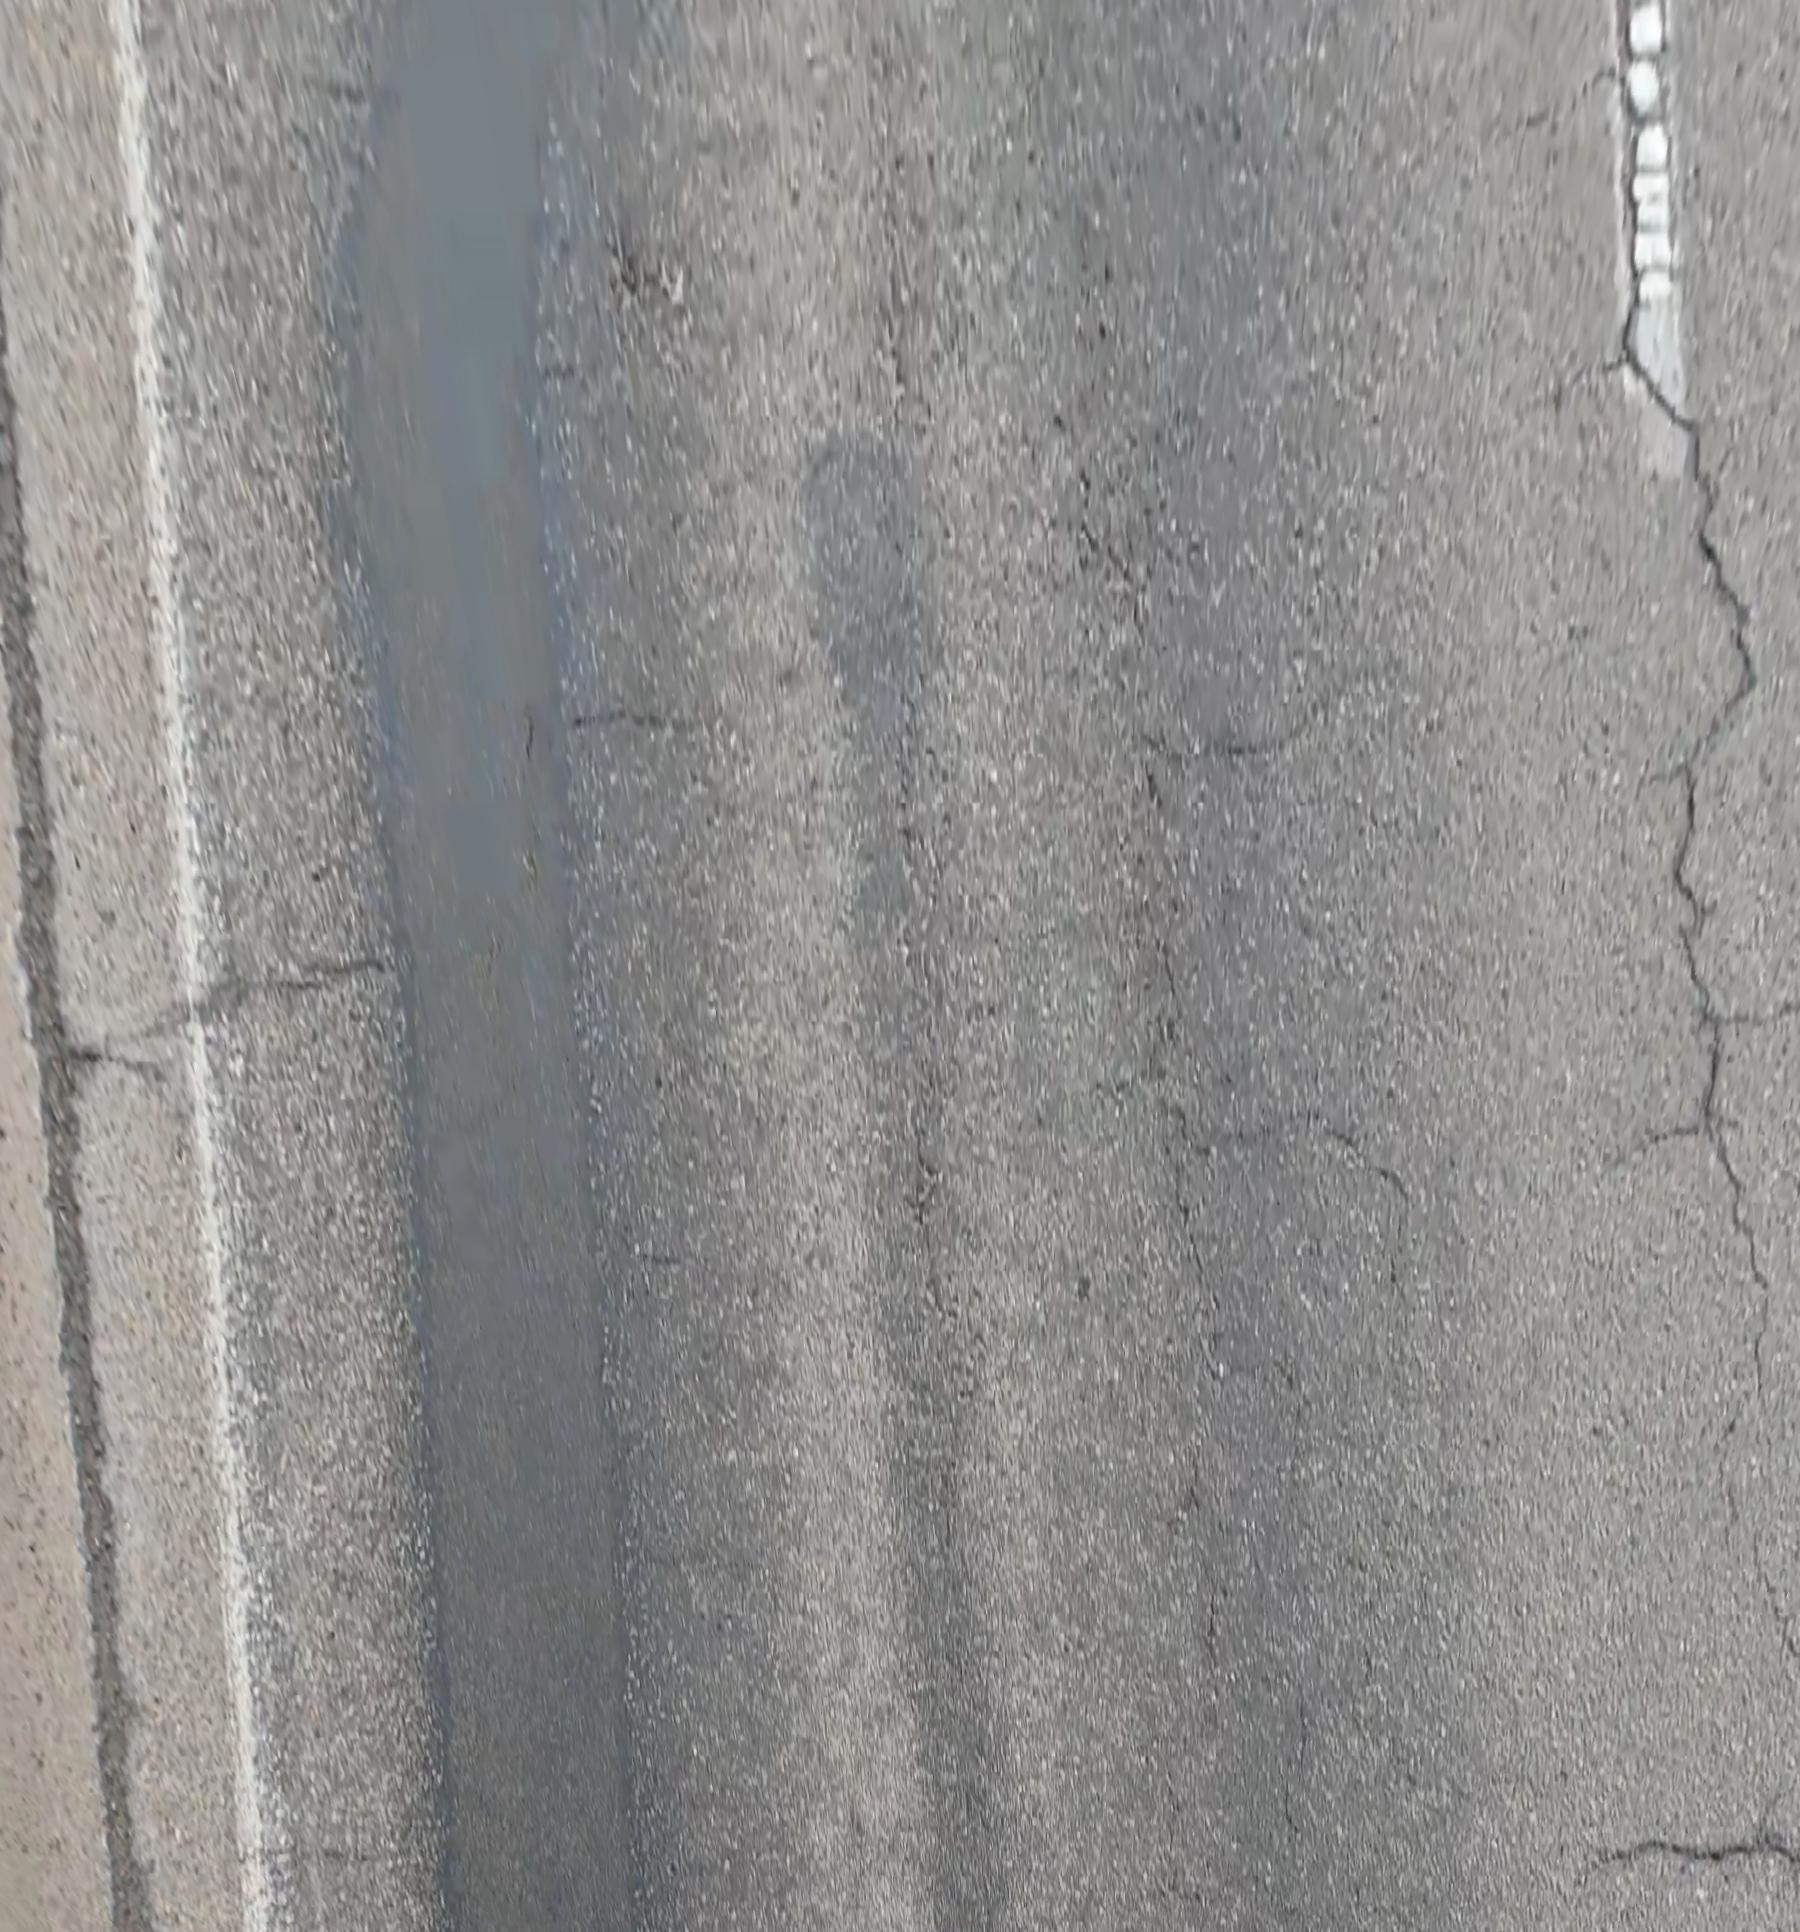pothole_patch_good: (343, 0, 633, 1932)
